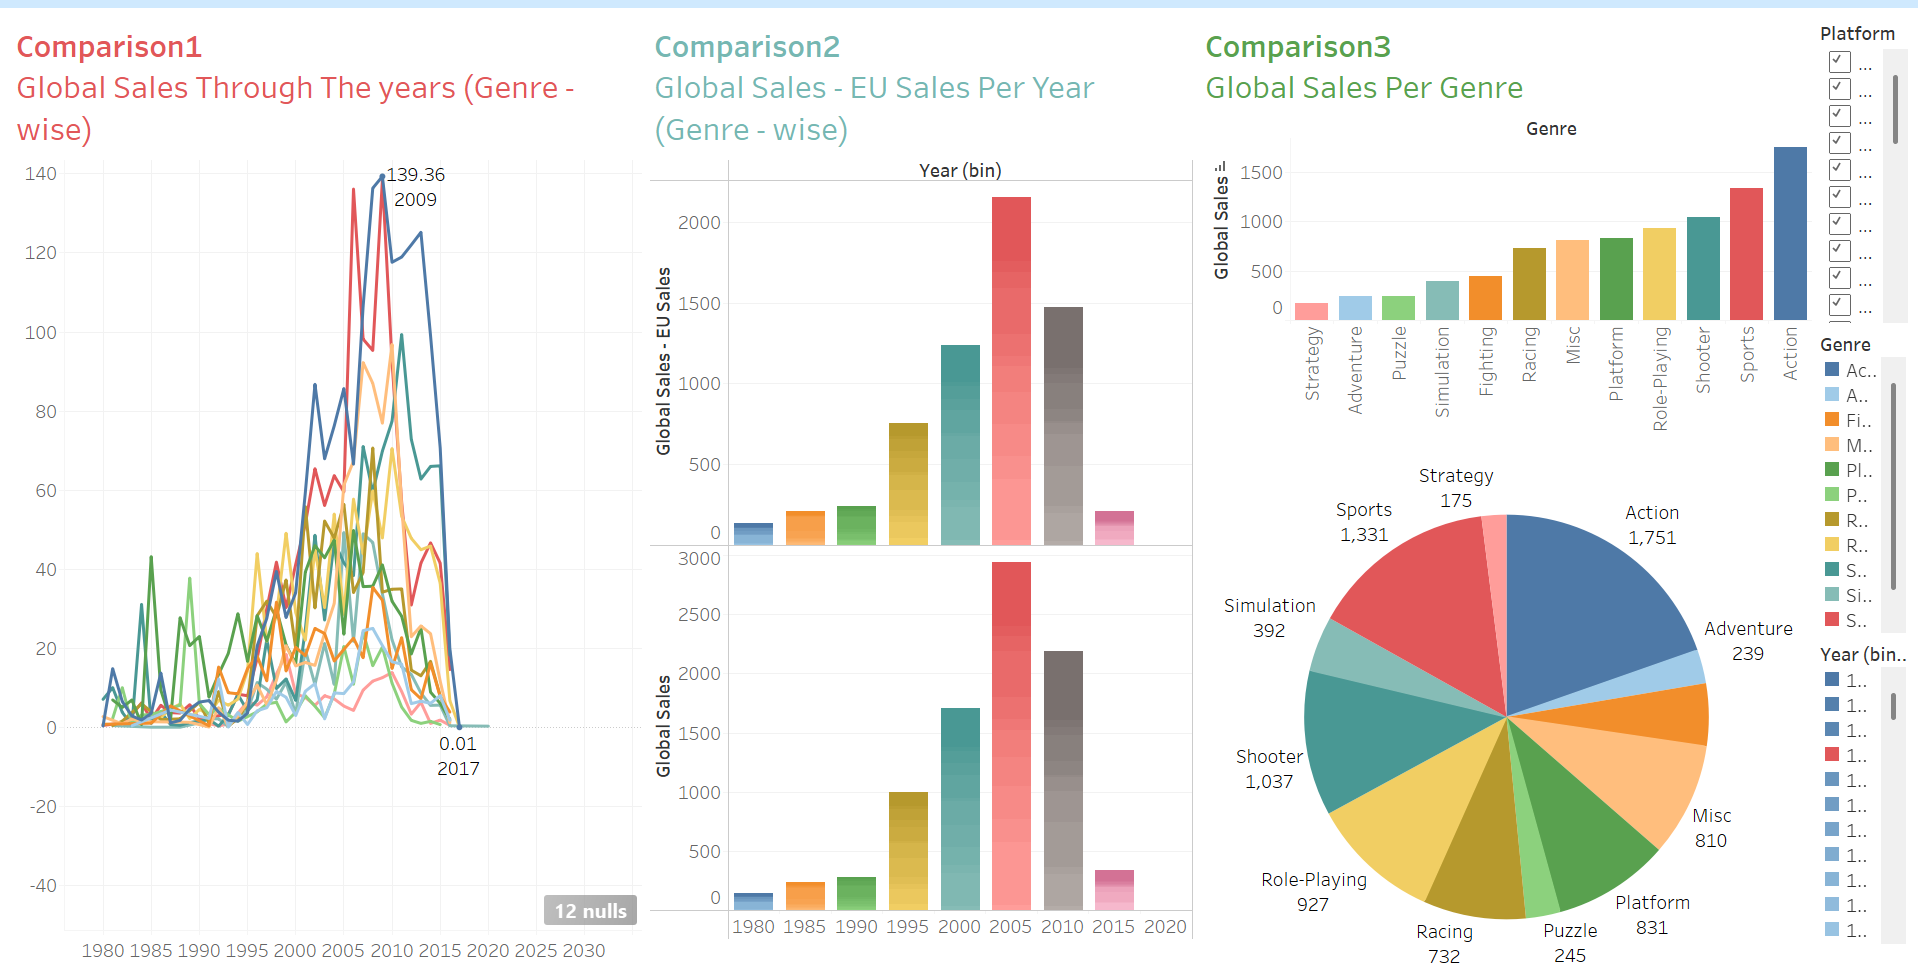

This screenshot's page, from the dashboard's own definition file:
{"tool":"tableau","page":{"name":"Dashboard 1","canvas":[1000,1000],"units":"permille","ordinal":0},"visuals":[{"type":"worksheet","title":"Sheet 1","mark":"Automatic","rows":["Global_Sales"],"cols":["Year"],"box":[5,10.7,314.2,978.6]},{"type":"worksheet","title":"Sheet 3","mark":"Automatic","rows":["Calculation_1483654625894670336","Global_Sales"],"cols":["Year (bin)"],"box":[319.2,10.7,236.3,978.6]},{"type":"worksheet","title":"Sheet 2","mark":"Automatic","rows":["Global_Sales"],"cols":["Genre"],"box":[555.5,10.7,339.8,978.6]},{"type":"filter","title":"Sheet 1","param":"[federated.13fe7zr0m1kfqs16ocj5o14t86lo].[none:Platform:nk]","box":[895.3,10.7,99.8,326.2]},{"type":"legend","title":"Sheet 2","param":"[federated.13fe7zr0m1kfqs16ocj5o14t86lo].[none:Genre:nk]","box":[895.3,336.9,99.8,326.2]},{"type":"legend","title":"Sheet 3","param":"[federated.13fe7zr0m1kfqs16ocj5o14t86lo].[none:Year (bin):ok]\n[federated.13fe7zr","box":[895.3,663.1,99.8,326.2]}]}

Visuals, with their boxes on the dashboard's canvas, which has no fixed pixel size, in thousandths of its width and height (x1, y1, x2, y2). These are canvas units, not pixel positions in the 1918x968 screenshot, which may show the page scaled, cropped or inside an application window:
"Sheet 1" worksheet: bbox=[5, 11, 319, 989]
"Sheet 3" worksheet: bbox=[319, 11, 556, 989]
"Sheet 2" worksheet: bbox=[556, 11, 895, 989]
"Sheet 1" filter: bbox=[895, 11, 995, 337]
"Sheet 2" legend: bbox=[895, 337, 995, 663]
"Sheet 3" legend: bbox=[895, 663, 995, 989]
